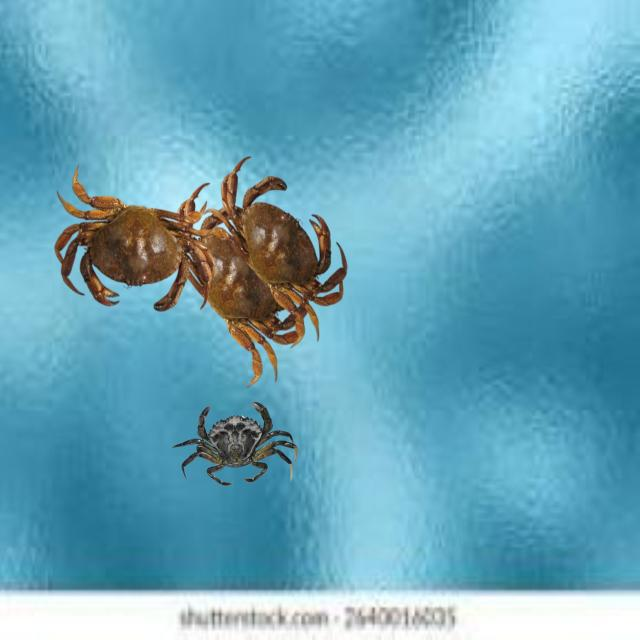European_Green_Crab: (170, 398, 299, 491)
